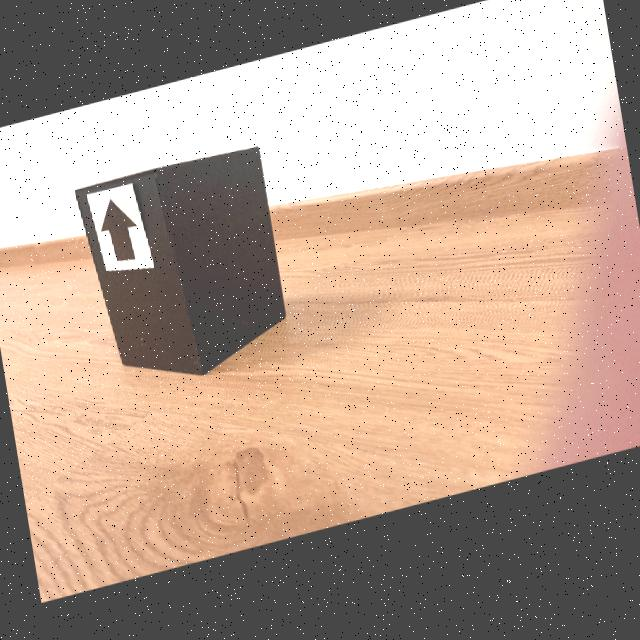UP: (102, 202, 136, 264)
